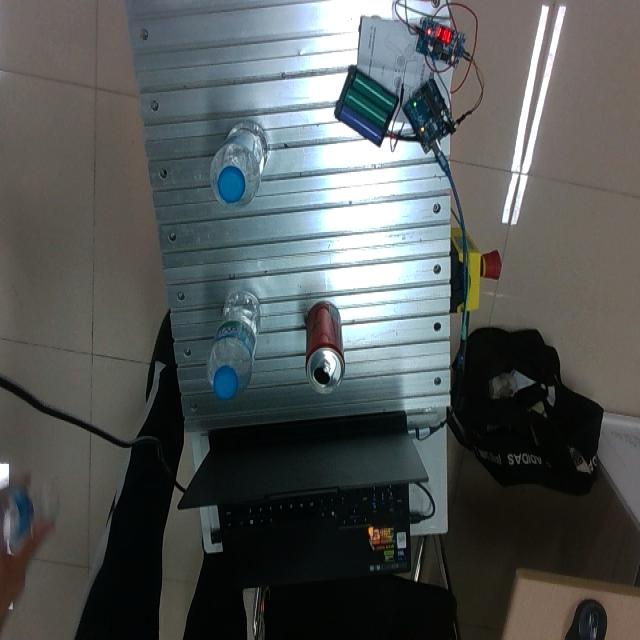coca: (305, 301, 346, 396)
lavie: (208, 289, 262, 402), (211, 123, 270, 212)
